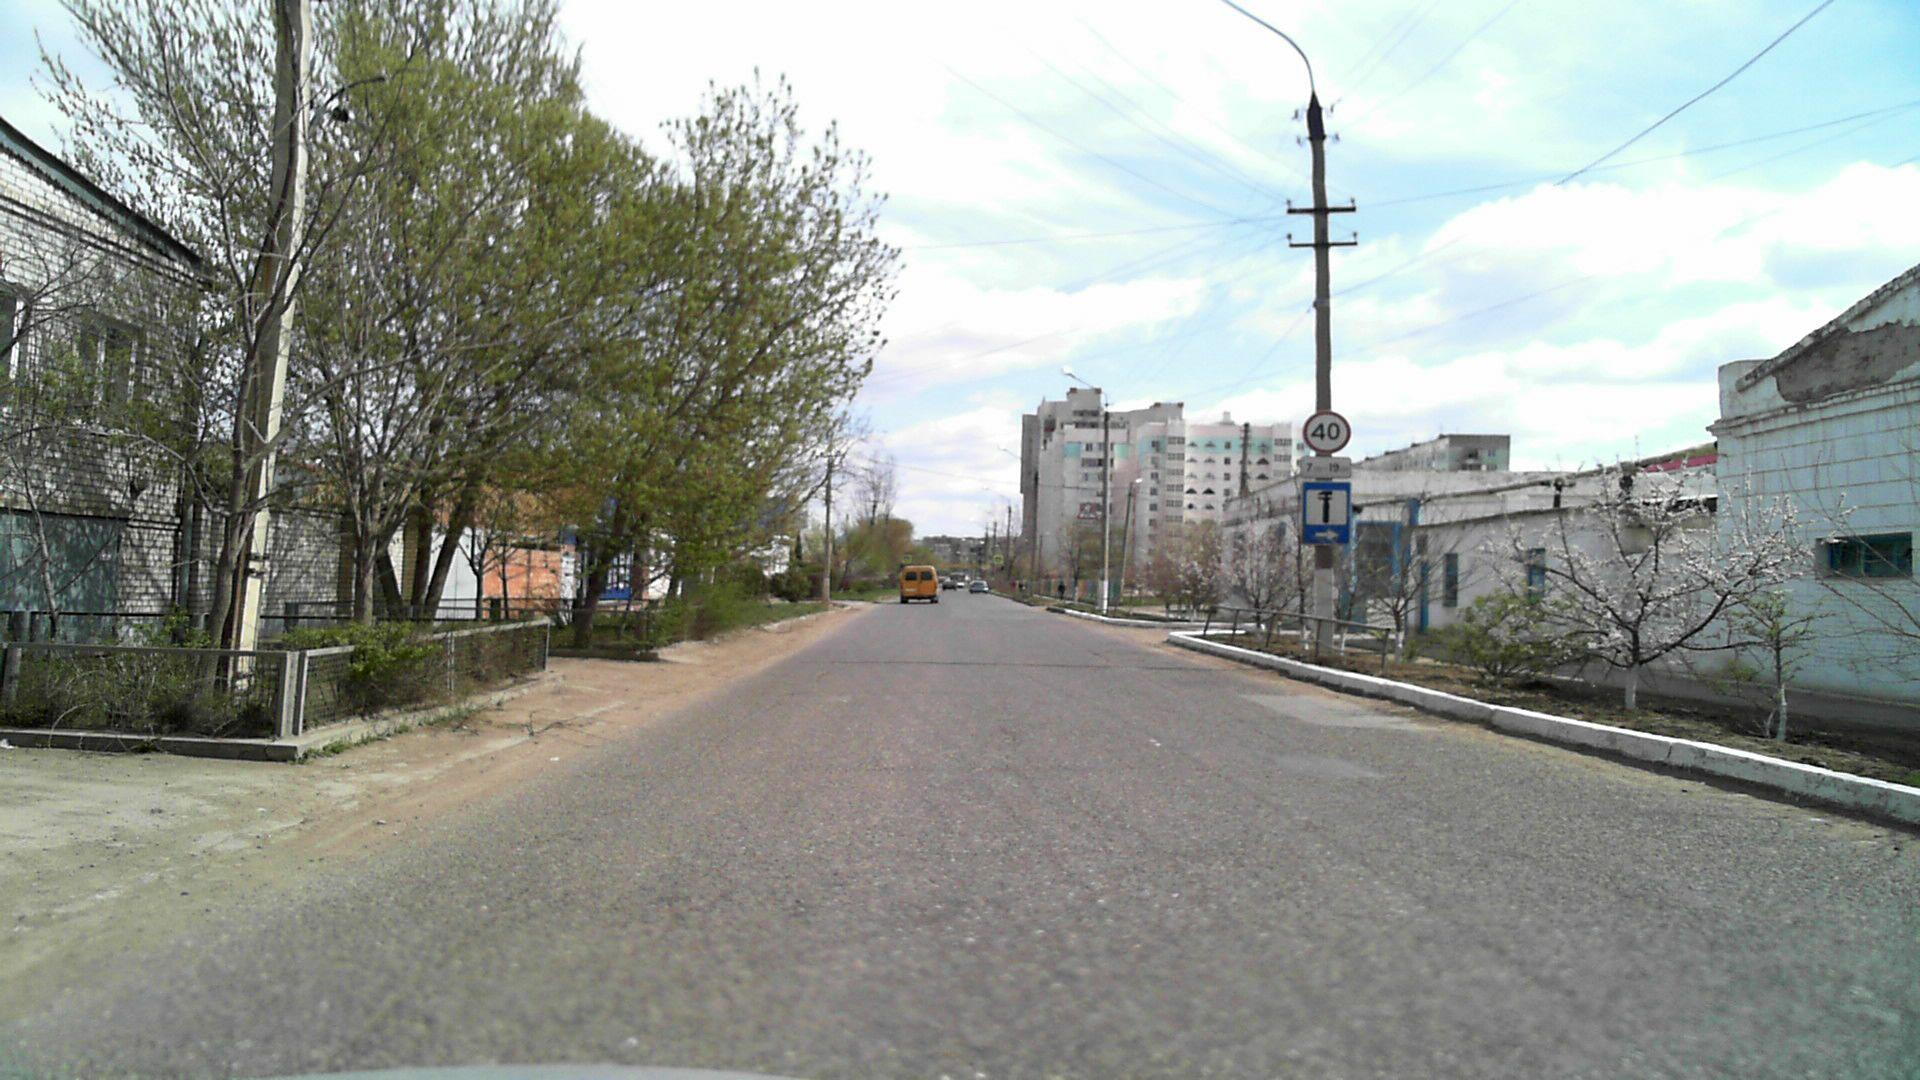3_24: (1303, 409, 1352, 455)
5_19_1: (997, 556, 1002, 563)
5_19_2: (905, 555, 911, 562)
7_4: (1303, 480, 1350, 542)
8_5_4: (1298, 454, 1352, 479)
